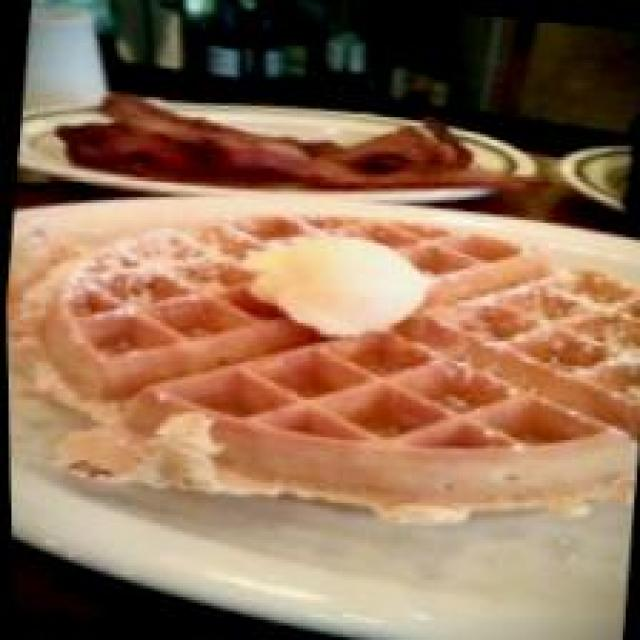Waffles: (3, 171, 640, 566)
